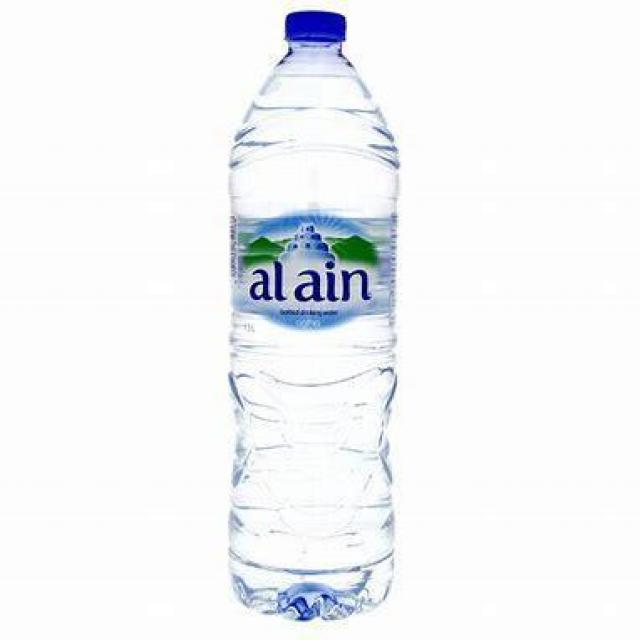bottle: (209, 17, 411, 620)
